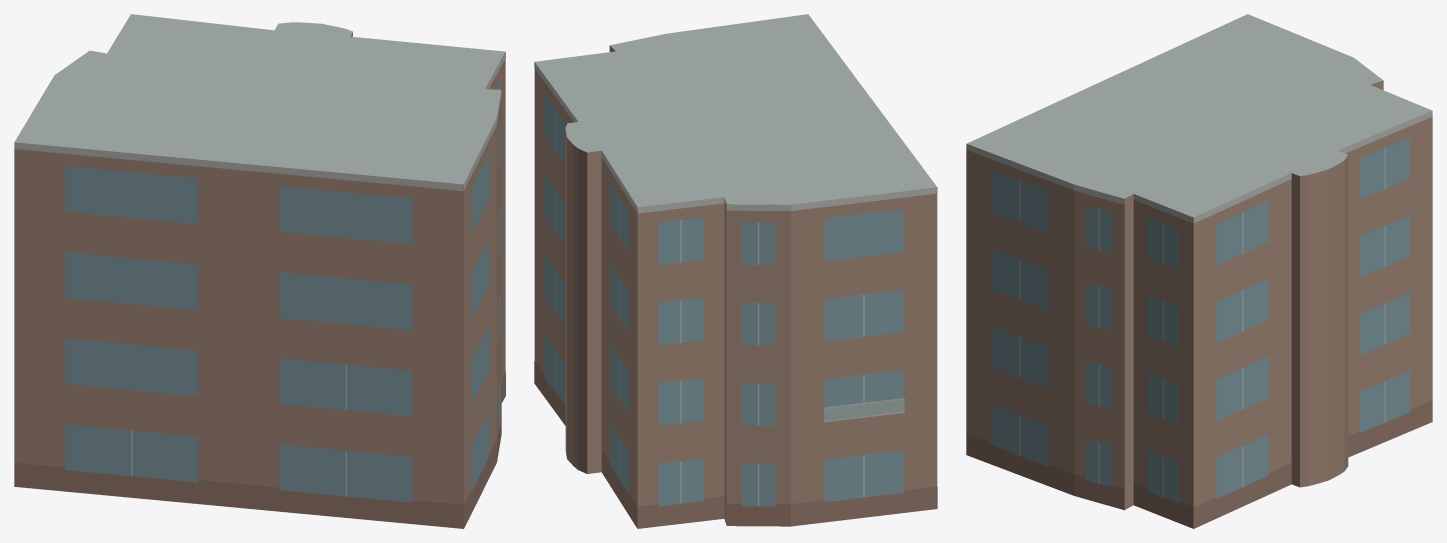
The model's file is survey-upis-32513983.glb.
3 renders of one model, left to right at view 1: azimuth 30°, elevation 25°; view 2: azimuth 150°, elevation 25°; view 3: azimuth 270°, elevation 25°, orthographic. The views are drawn at different scales.
Visible parts, largest first — view 1: survey-upis-32513983.tmp; view 2: survey-upis-32513983.tmp; view 3: survey-upis-32513983.tmp.
Part boxes in pixels (x1,y1,x2,y2): survey-upis-32513983.tmp: [14, 14, 505, 528]; survey-upis-32513983.tmp: [534, 14, 937, 528]; survey-upis-32513983.tmp: [966, 14, 1432, 528].
Bounding box in the file's own units: 17.61 × 12.55 × 17.04.
